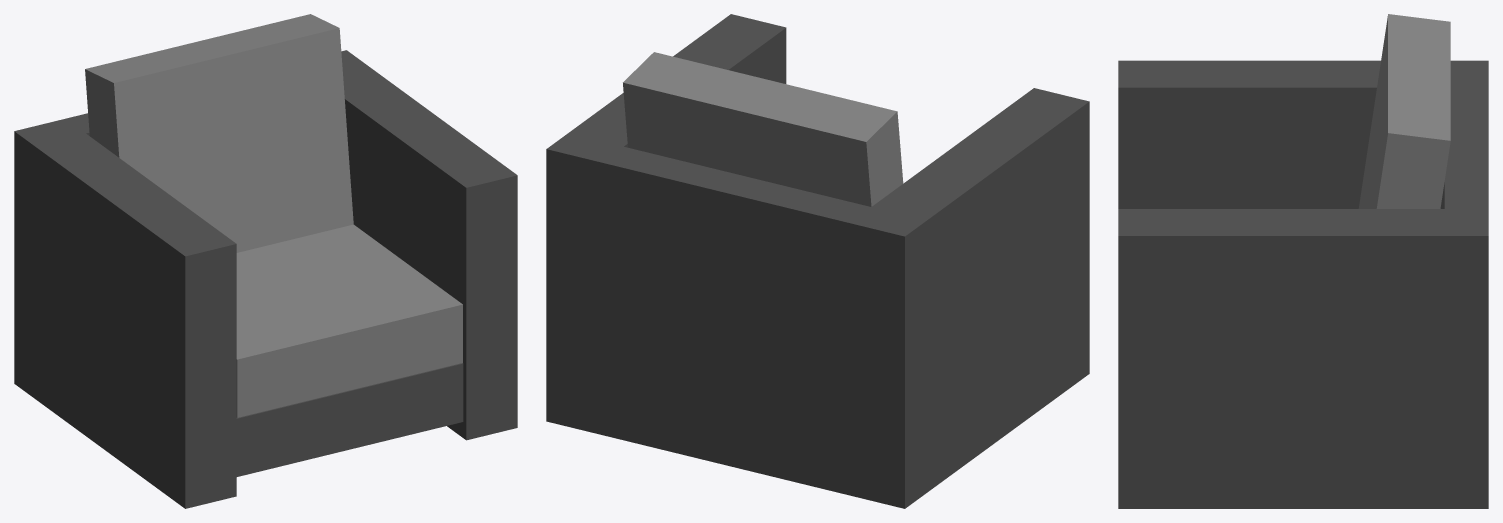
File: SM_Props_Furniture_06.fbx
The picture shows the model from 3 angles, left to right: view 1: azimuth 30°, elevation 25°; view 2: azimuth 150°, elevation 25°; view 3: azimuth 270°, elevation 25°; orthographic projection. The views are drawn at different scales.
Parts seen in each view (by area): view 1: SM_Props_Furniture_06; view 2: SM_Props_Furniture_06; view 3: SM_Props_Furniture_06.
Part boxes in pixels (x1,y1,x2,y2): SM_Props_Furniture_06: (14,14,517,508); SM_Props_Furniture_06: (546,14,1089,508); SM_Props_Furniture_06: (1118,14,1488,508).
Size of the model in its own units: 1.17 by 1.08 by 1.04.
